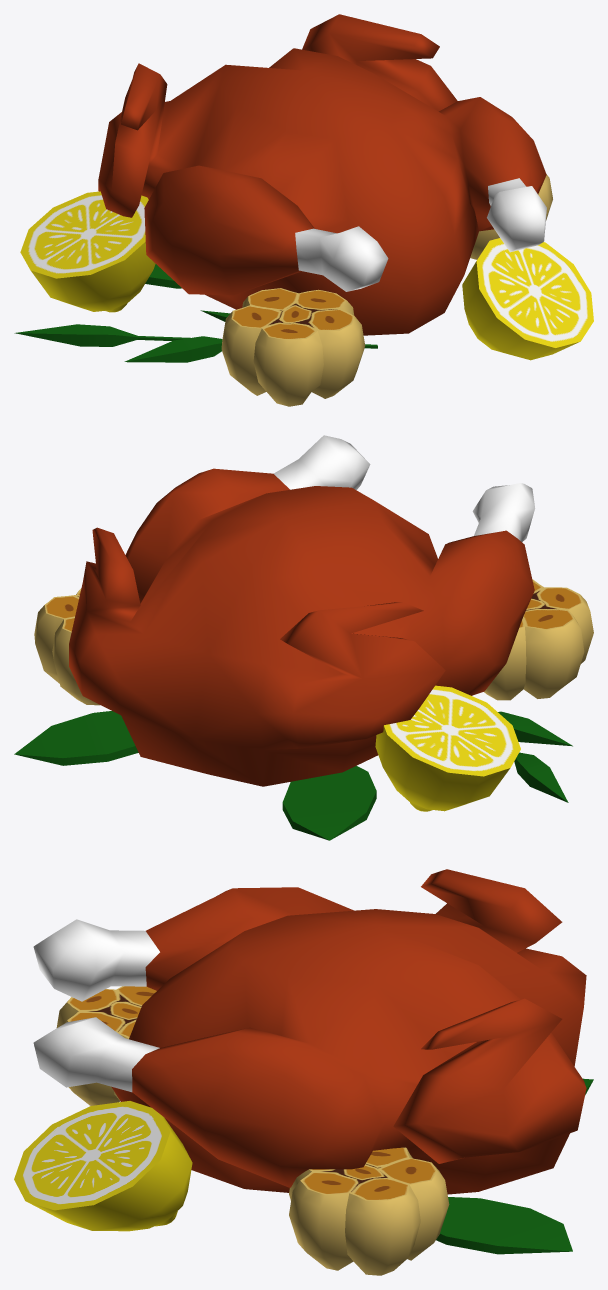
Rendered from Ga tay quay.FBX.
The picture shows the model from 3 angles, top to bottom: view 1: azimuth 30°, elevation 25°; view 2: azimuth 150°, elevation 25°; view 3: azimuth 270°, elevation 25°; orthographic projection. The views are drawn at different scales.
Parts seen in each view (by area): view 1: Ga tay quay, Sphere046, Sphere044, Sphere043, Box1245, Sphere047; view 2: Ga tay quay, Sphere043, Sphere046, Box1241, Box1242, Sphere047, Box1245; view 3: Ga tay quay, Sphere044, Sphere047, Box1242, Sphere046.
Part boxes in pixels (bbox=[...]): Ga tay quay: bbox=[98, 14, 546, 335]; Sphere046: bbox=[221, 288, 365, 406]; Sphere044: bbox=[462, 238, 593, 360]; Sphere043: bbox=[20, 191, 155, 312]; Box1245: bbox=[14, 310, 377, 362]; Sphere047: bbox=[470, 174, 552, 259]; Ga tay quay: bbox=[69, 435, 535, 786]; Sphere043: bbox=[375, 685, 520, 811]; Sphere046: bbox=[484, 579, 593, 700]; Box1241: bbox=[282, 766, 376, 840]; Box1242: bbox=[14, 711, 138, 765]; Sphere047: bbox=[34, 588, 99, 705]; Box1245: bbox=[498, 711, 572, 802]; Ga tay quay: bbox=[33, 869, 586, 1194]; Sphere044: bbox=[14, 1101, 192, 1231]; Sphere047: bbox=[289, 1147, 449, 1275]; Box1242: bbox=[436, 1197, 572, 1254]; Sphere046: bbox=[56, 986, 156, 1105].
Size of the model in its own units: 2.83 by 1.16 by 2.44.
